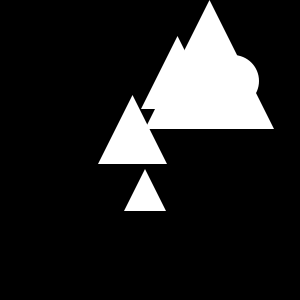rectangle: (207, 55, 259, 107)
triangle: (145, 0, 274, 129), (141, 36, 214, 109), (98, 95, 167, 164), (124, 169, 166, 211)
